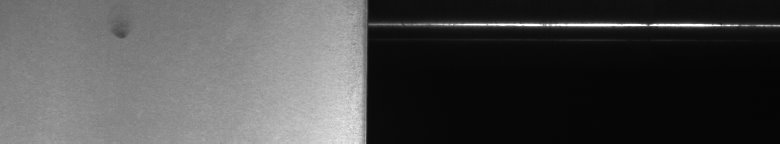fi: (112, 28, 129, 44)
